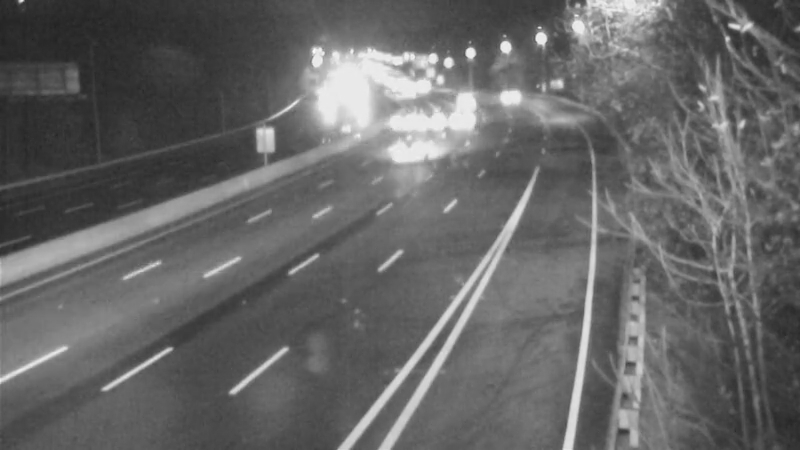vehicle: (435, 74, 485, 124), (480, 73, 530, 123), (440, 94, 490, 144), (407, 94, 457, 144), (378, 93, 428, 143), (383, 125, 433, 175)
